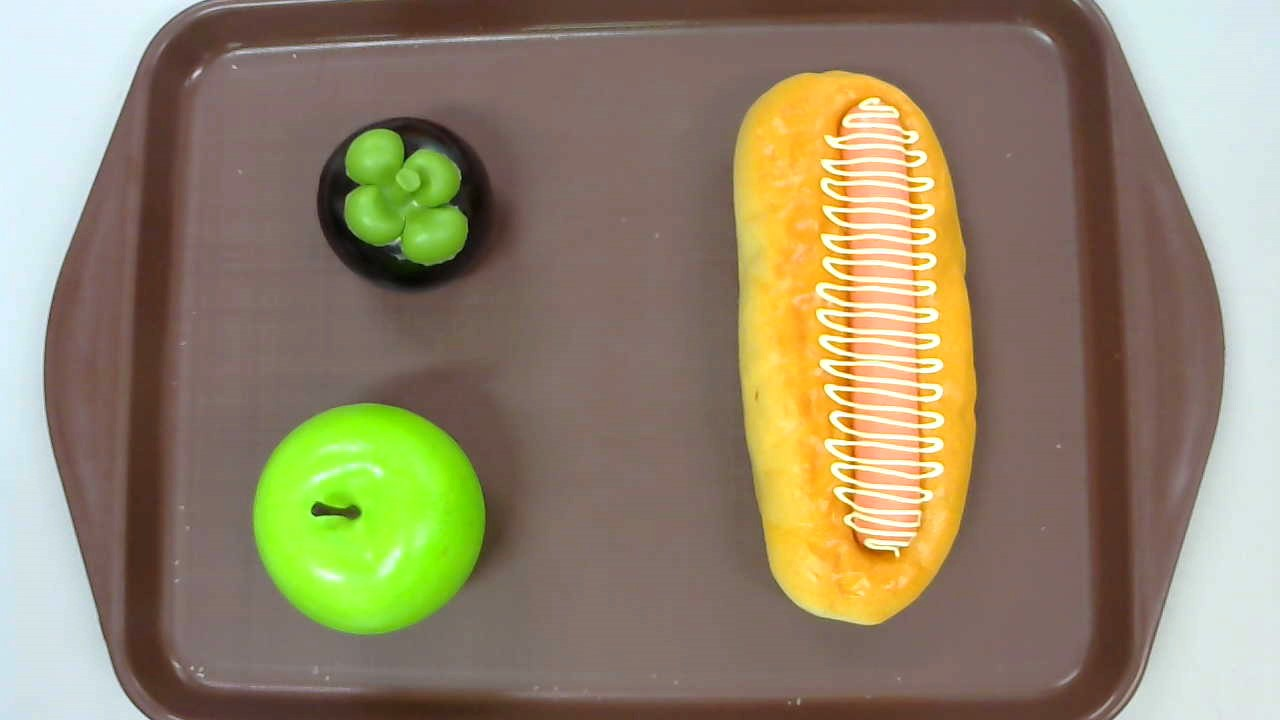green apple: (253, 403, 485, 634)
hot dog: (731, 69, 980, 626)
mangosteen: (318, 116, 491, 292)
